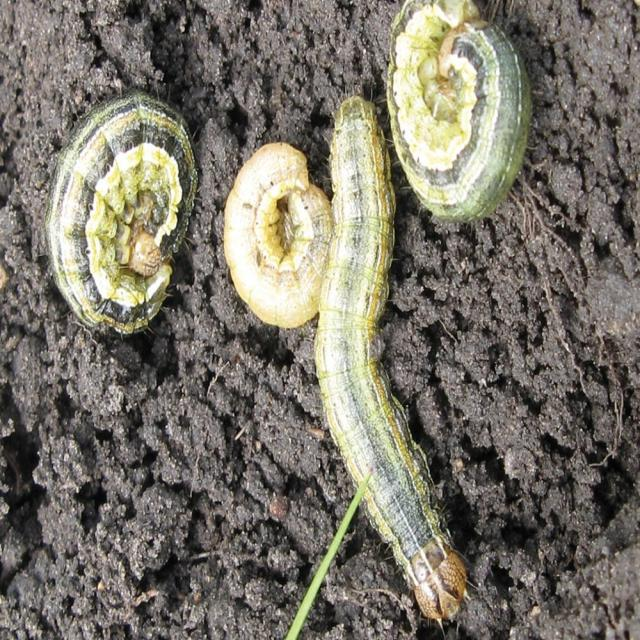armyworm: (290, 83, 481, 628), (29, 83, 201, 342), (374, 0, 551, 225), (212, 141, 340, 333)
